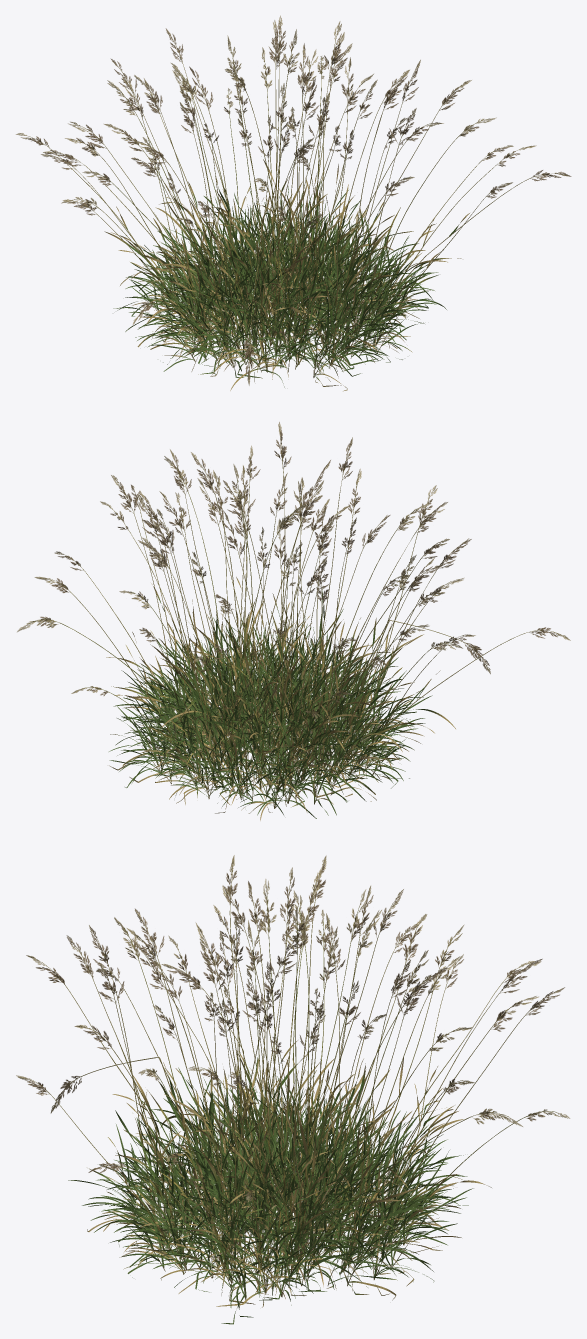
The model's file is tussock_01.glb.
3 renders of one model, top to bottom at view 1: azimuth 30°, elevation 25°; view 2: azimuth 150°, elevation 25°; view 3: azimuth 270°, elevation 25°, orthographic. The views are drawn at different scales.
Parts seen in each view (by area): view 1: Festuca_rubra_LD; view 2: Festuca_rubra_LD; view 3: Festuca_rubra_LD.
Boxes of the visible parts, x1,y1,x2,y2 form: Festuca_rubra_LD: [16, 15, 571, 391]; Festuca_rubra_LD: [17, 422, 570, 820]; Festuca_rubra_LD: [16, 855, 570, 1324].
Size of the model in its own units: 1.6 by 1 by 1.44.
Materials: 13 (13 with a texture image).
